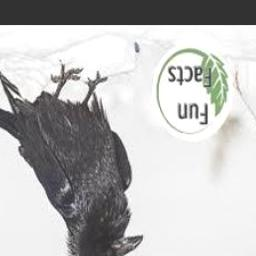Crow: (0, 60, 144, 256)
